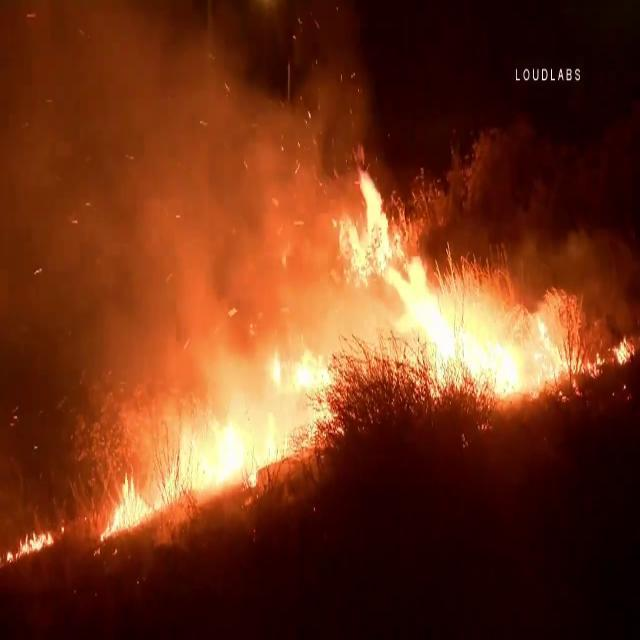Fire: (341, 171, 583, 416), (99, 317, 342, 535), (1, 516, 56, 570)
Smoke: (1, 1, 352, 356)
